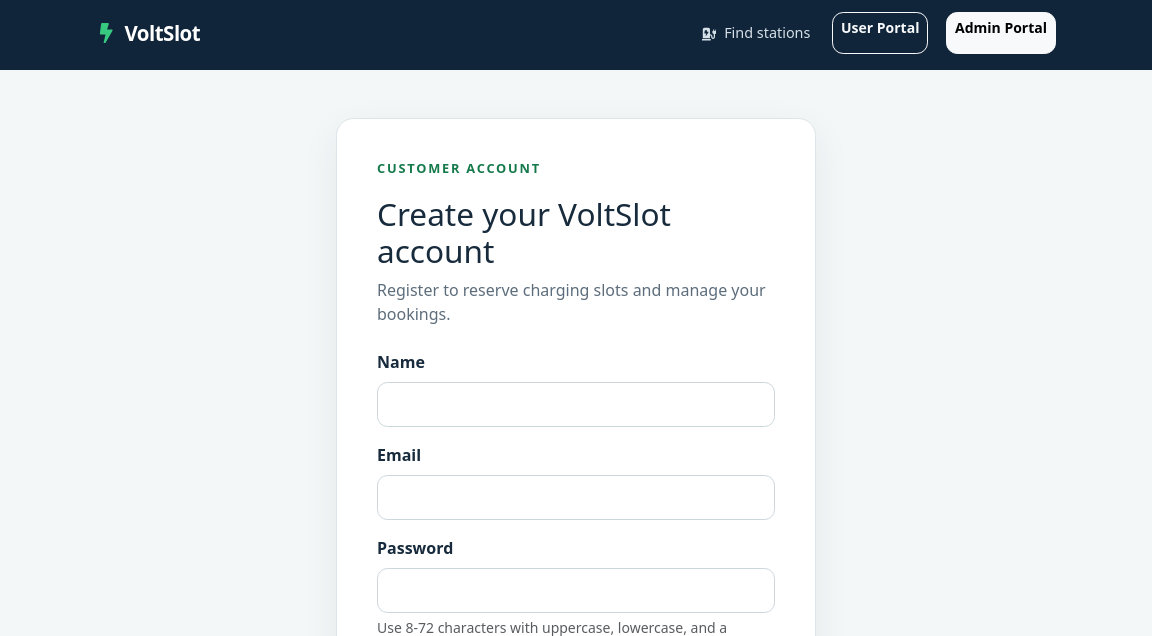
Test: VoltSlot station frontend › registers a customer and starts the existing token session
Step 1. Type "New Customer" into the field labelled "Name" → (576, 405), box [377,382,775,427]
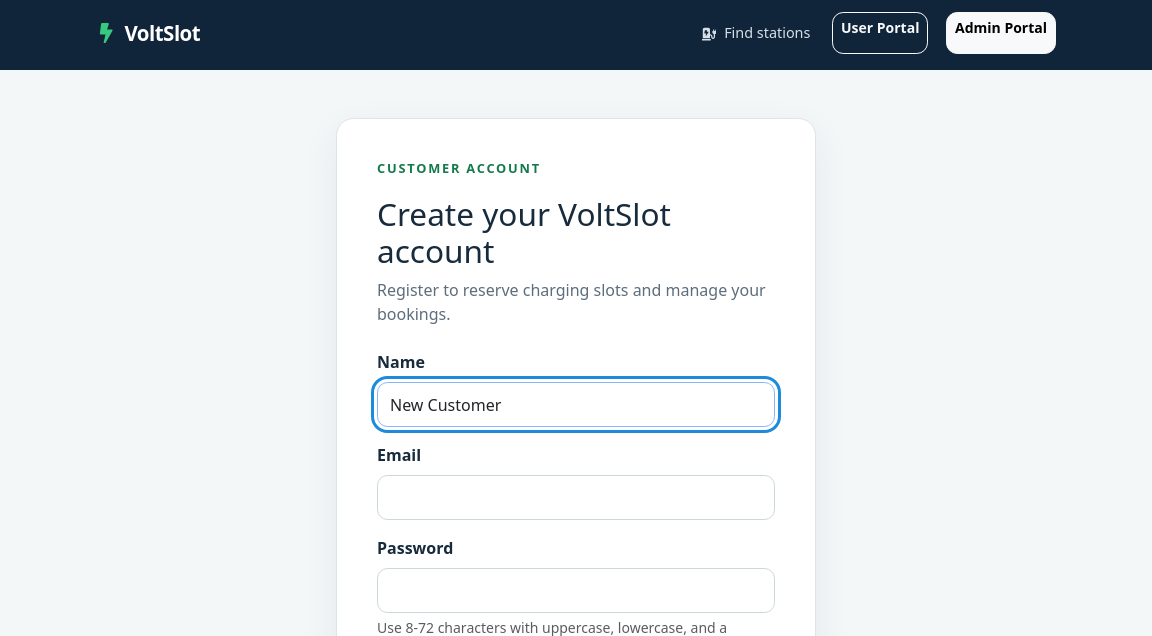
Step 2. Type "new@example.com" into the field labelled "Email" → (576, 498), box [377,475,775,520]
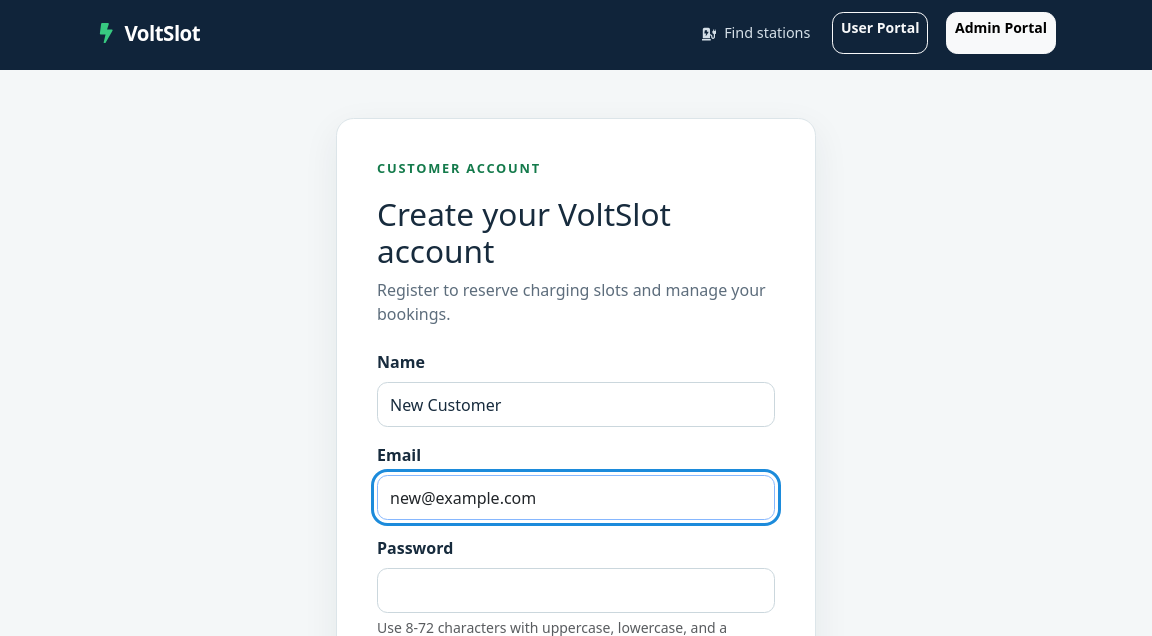
Step 3. Type "StrongPass123" into the password field labelled "Password" → (576, 590), box [377,568,775,613]
(page scrolled)
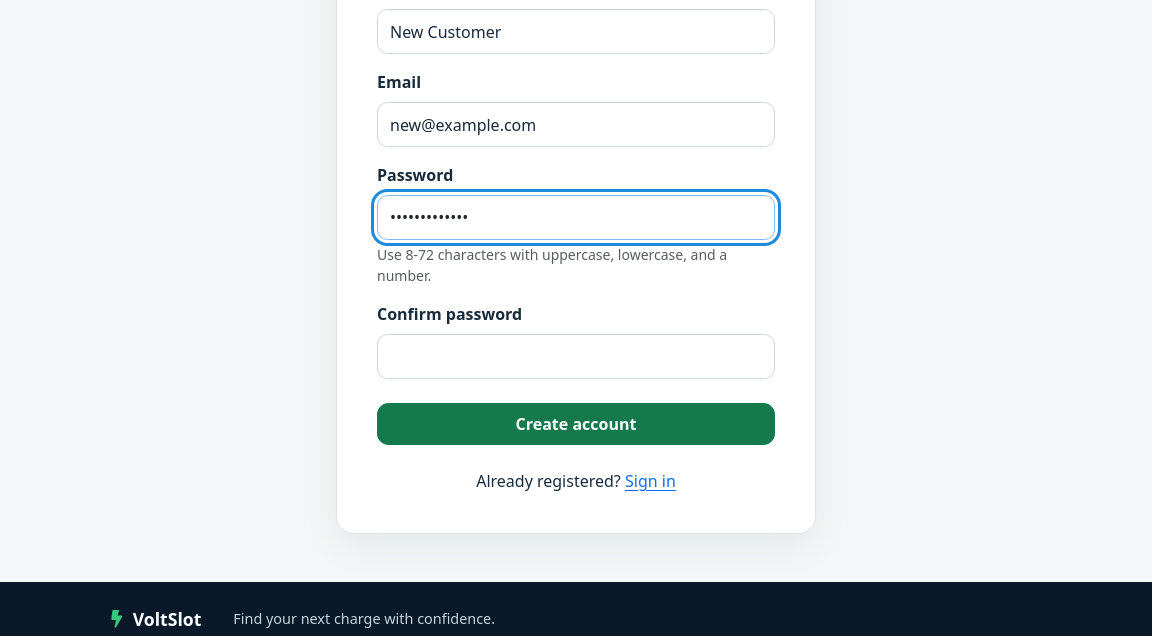
Step 4. Type "StrongPass123" into the password field labelled "Confirm password" → (576, 356), box [377,334,775,378]
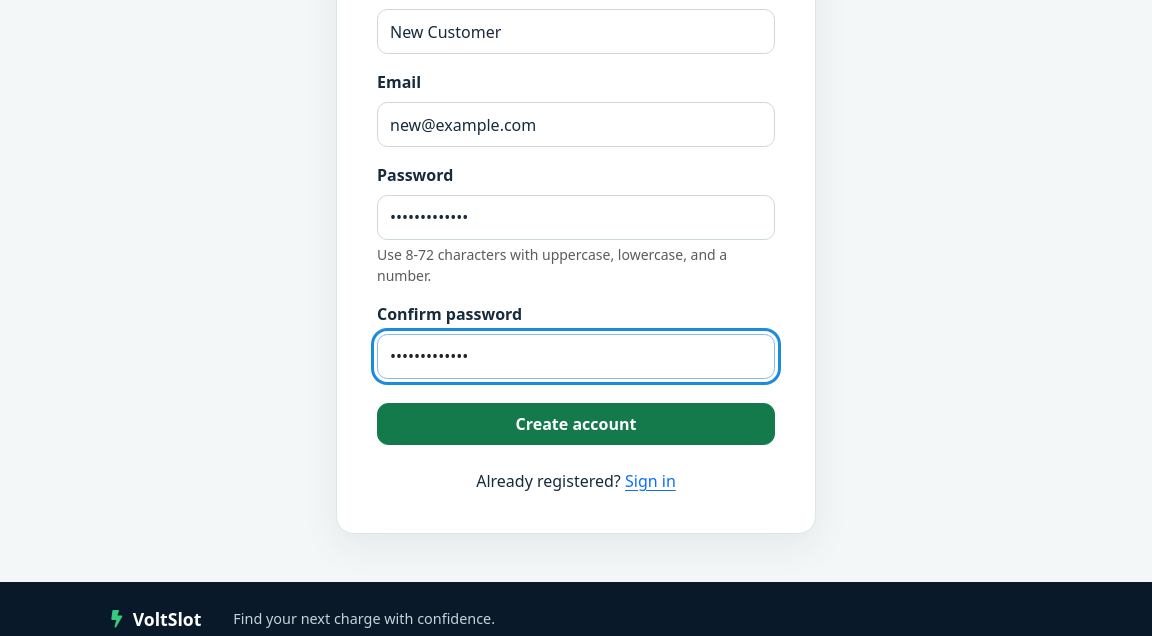
Step 5. Click the button "Create account" → (576, 424), box [377,402,775,445]
(page scrolled)
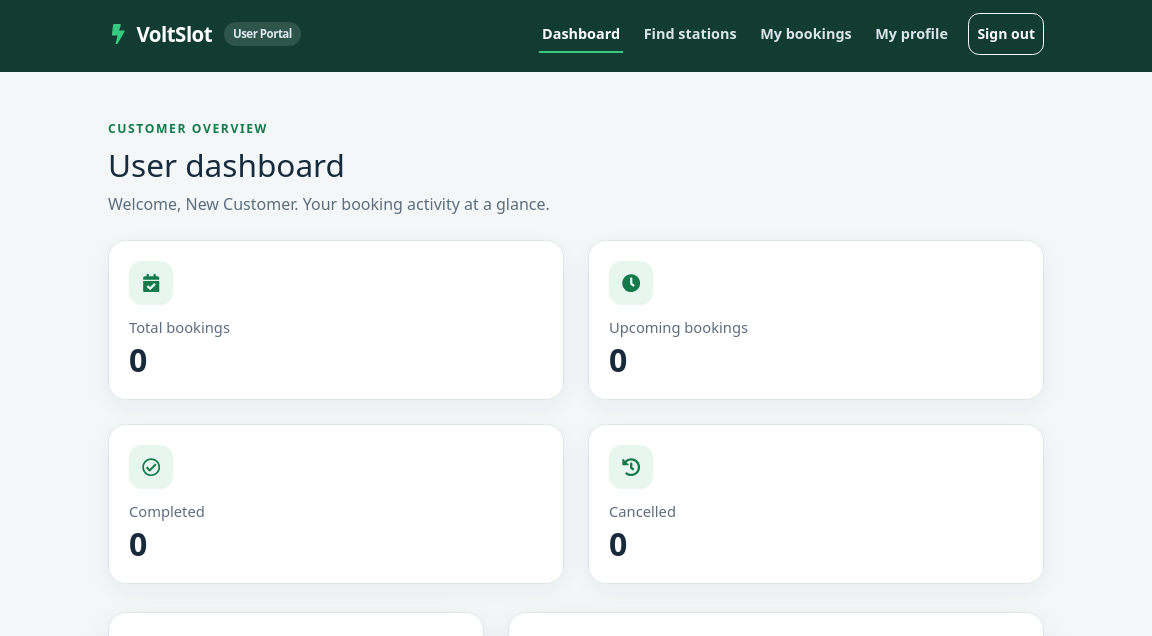
Result: the heading "User dashboard" is shown at [108,143,345,186]
Result: the link "My bookings" is shown at [760,24,852,43]
